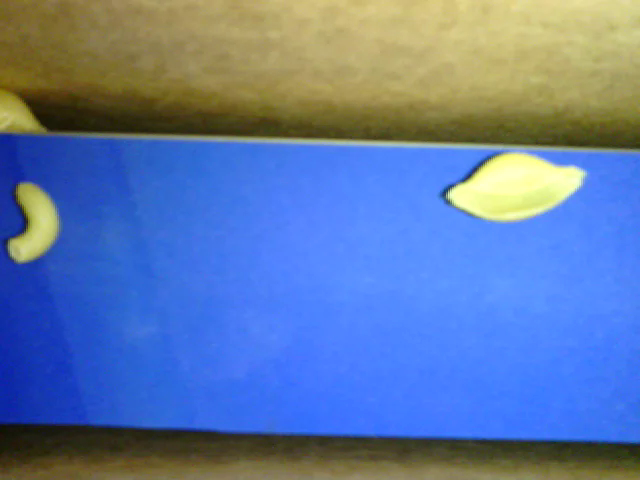elbow: (6, 180, 61, 262)
shell: (441, 147, 589, 223), (1, 84, 51, 132)
